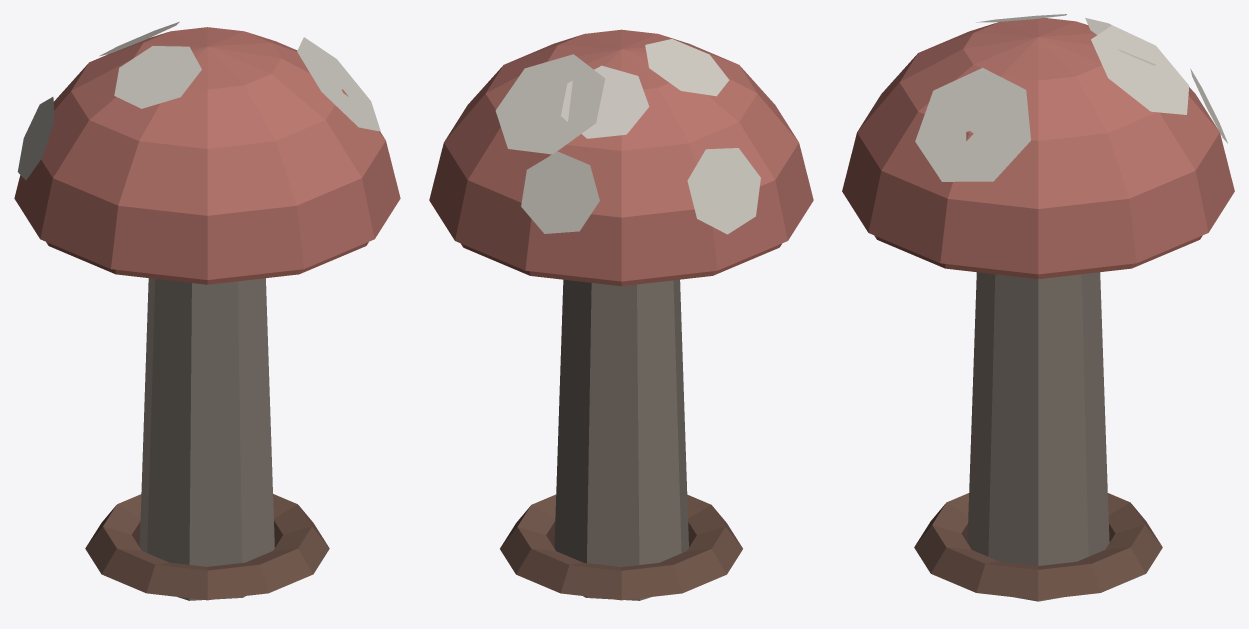
Rendered from toadstool_v2.glb.
3 renders of one model, left to right at view 1: azimuth 30°, elevation 25°; view 2: azimuth 150°, elevation 25°; view 3: azimuth 270°, elevation 25°, orthographic. The views are drawn at different scales.
Parts seen in each view (by area): view 1: world; view 2: world; view 3: world.
Part boxes in pixels (left/top/right/bottom): world: left=14, top=21, right=400, bottom=600; world: left=429, top=29, right=813, bottom=600; world: left=842, top=14, right=1234, bottom=601.
Size of the model in its own units: 0.656 by 1 by 0.656.
